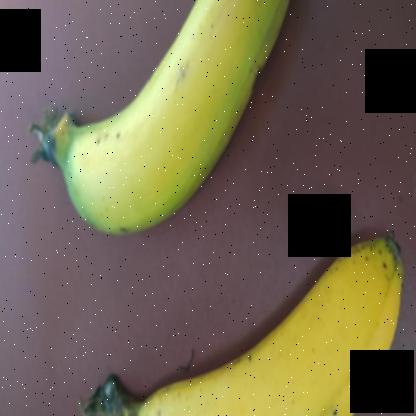freshripe: (35, 0, 290, 265), (60, 236, 405, 415)
